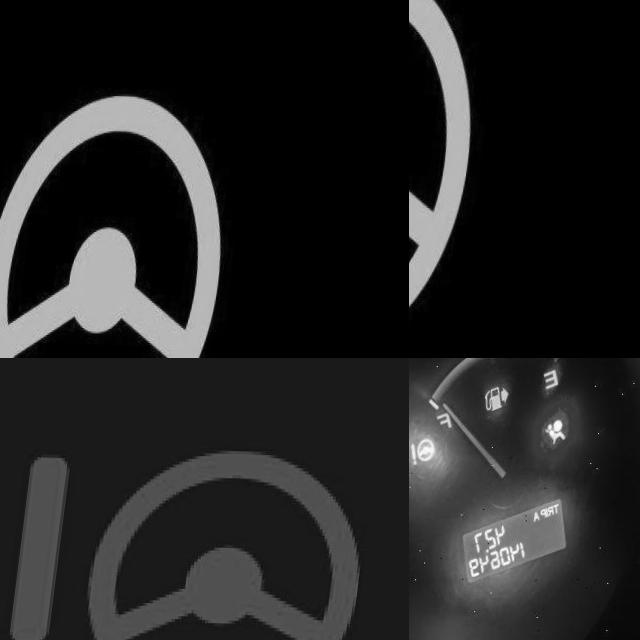Electronic Power Steering: (8, 444, 380, 640), (0, 86, 246, 358), (409, 0, 489, 353)
Electronic Power Steering Warning: (411, 434, 448, 467)
